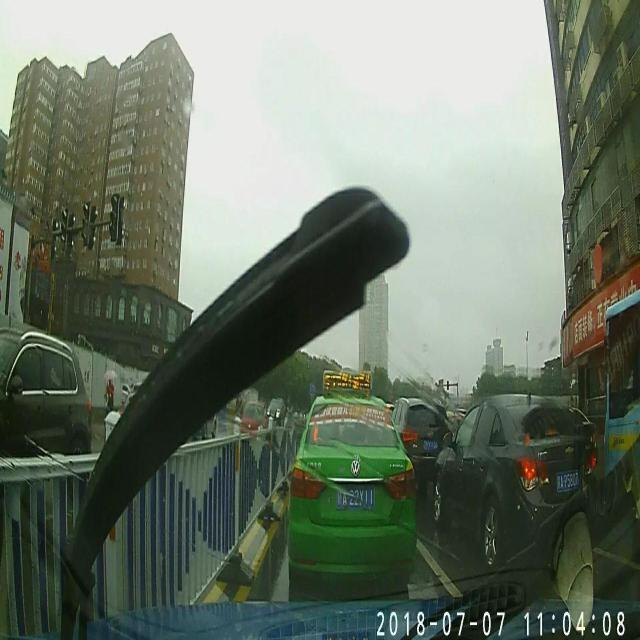car: (436, 394, 598, 567), (284, 371, 416, 579), (0, 323, 91, 482), (390, 392, 455, 479), (241, 400, 268, 446), (192, 414, 220, 438), (268, 396, 286, 429)
